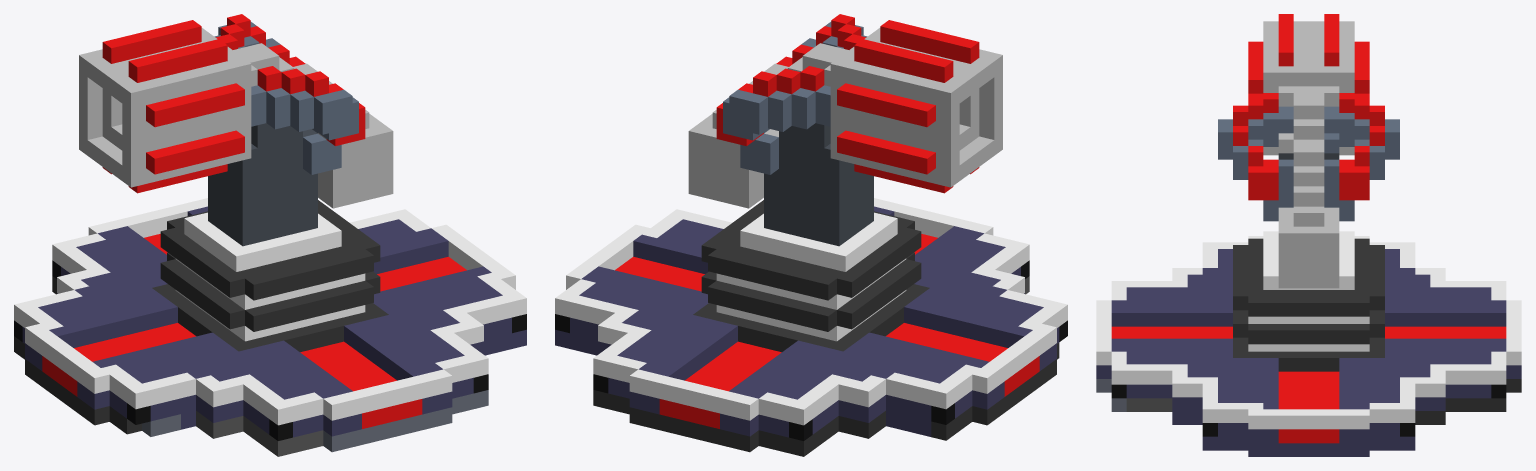
File: Turret1.obj
The picture shows the model from 3 angles, left to right: view 1: azimuth 30°, elevation 25°; view 2: azimuth 150°, elevation 25°; view 3: azimuth 270°, elevation 25°; orthographic projection. The views are drawn at different scales.
Size of the model in its own units: 2.8 by 2.1 by 2.8.
Materials: 1 (1 with a texture image).
